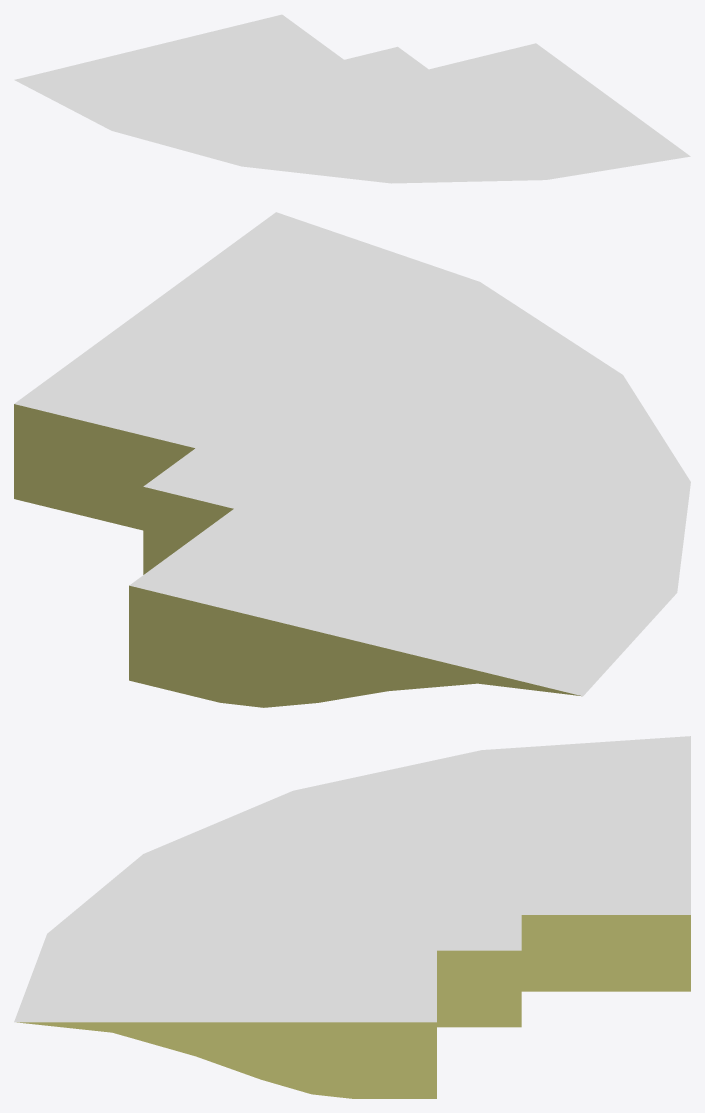
File: Ceiling_Curve_Outer_8x8.glb
The picture shows the model from 3 angles, top to bottom: view 1: azimuth 30°, elevation 25°; view 2: azimuth 150°, elevation 25°; view 3: azimuth 270°, elevation 25°; orthographic projection. The views are drawn at different scales.
Visible parts, largest first — view 1: Ceiling_Curve_Outer_8x8; view 2: Ceiling_Curve_Outer_8x8; view 3: Ceiling_Curve_Outer_8x8.
Boxes of the visible parts, bbox=[...] form: Ceiling_Curve_Outer_8x8: bbox=[14, 14, 690, 183]; Ceiling_Curve_Outer_8x8: bbox=[14, 212, 690, 707]; Ceiling_Curve_Outer_8x8: bbox=[14, 736, 690, 1098].
Size of the model in its own units: 800 by 100 by 800.
